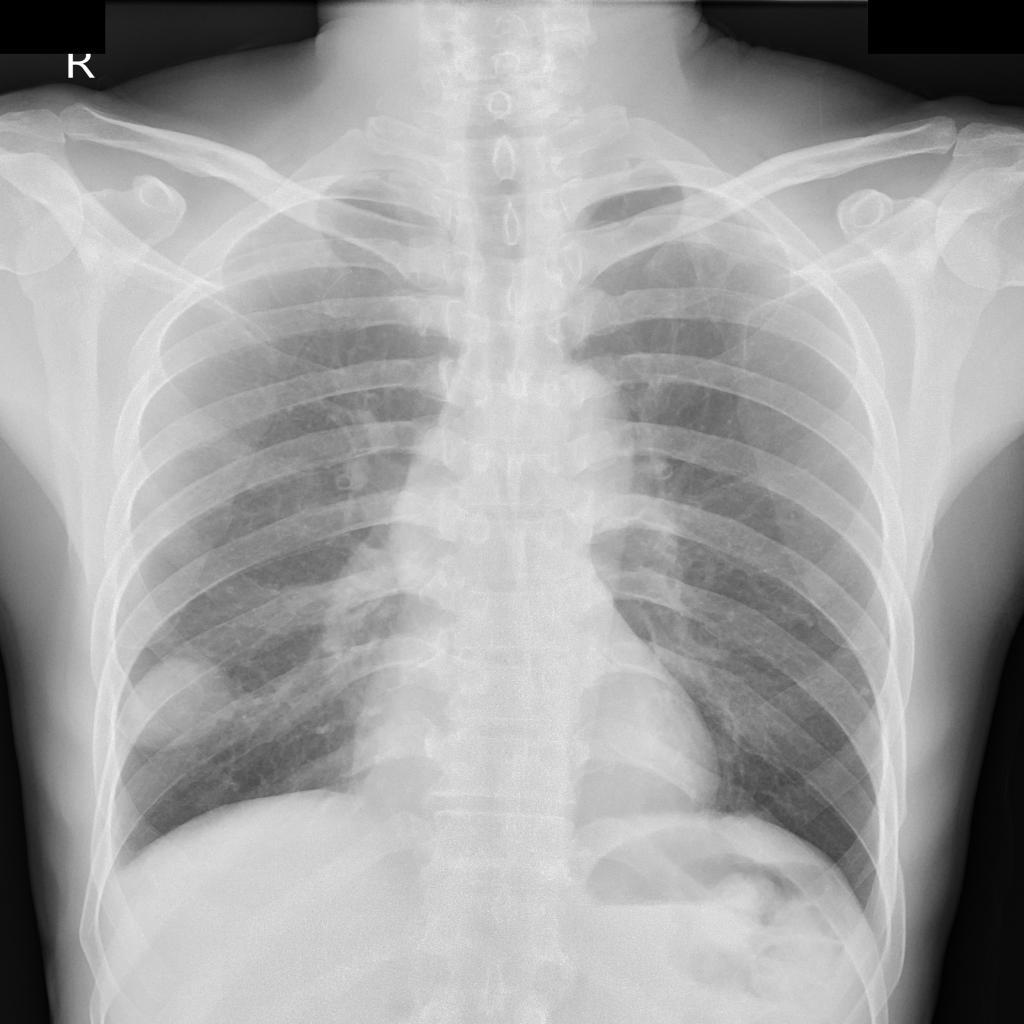Nodule: (122, 657, 239, 745)
